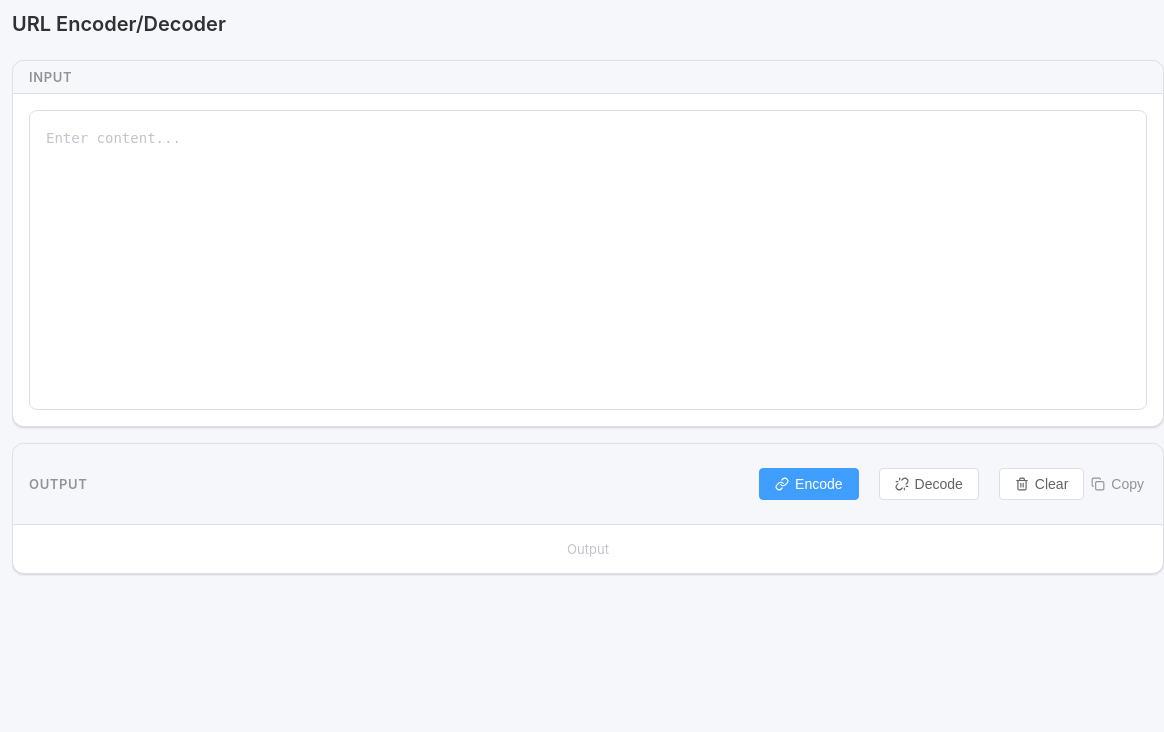
Test case: UrlEncoder › should encode URL
Step 1. Type "https://example.com/path?q=hello world" into the text box with placeholder "Enter content..." → x=588, y=260, box [29,110,1147,410]
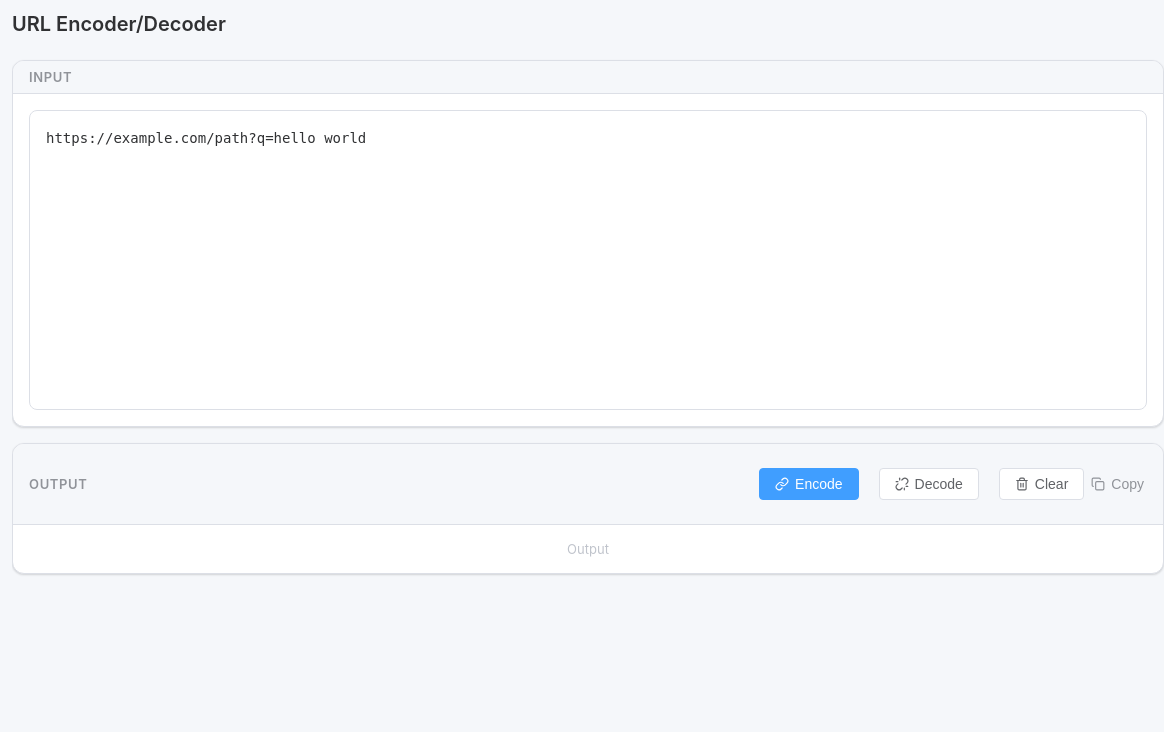
Step 2. Click the button "Encode" → x=809, y=484, box [759,468,859,500]
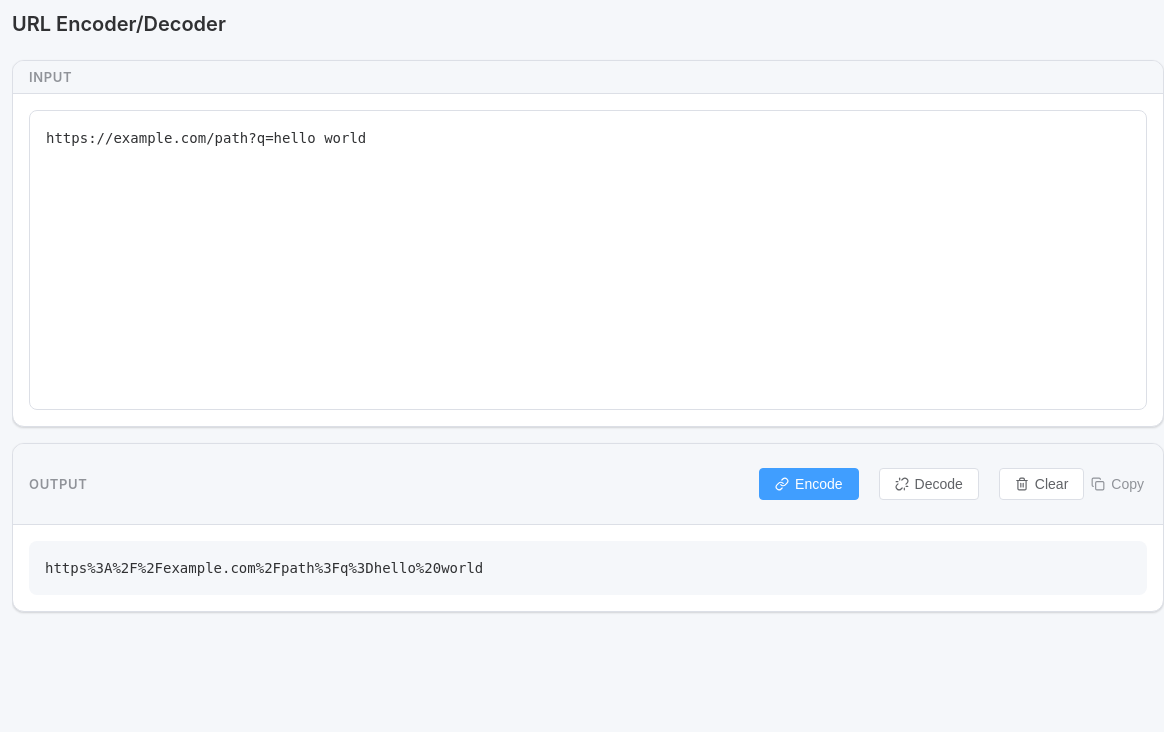
Expected: the element with class "code-content" shows "https%3A%2F%2Fexample.com", [45,560,483,576]
